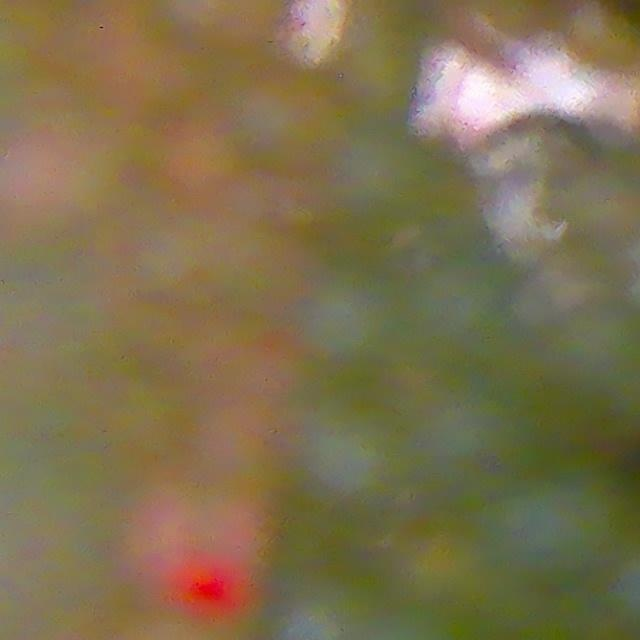SeaGrape: (299, 396, 407, 505)
